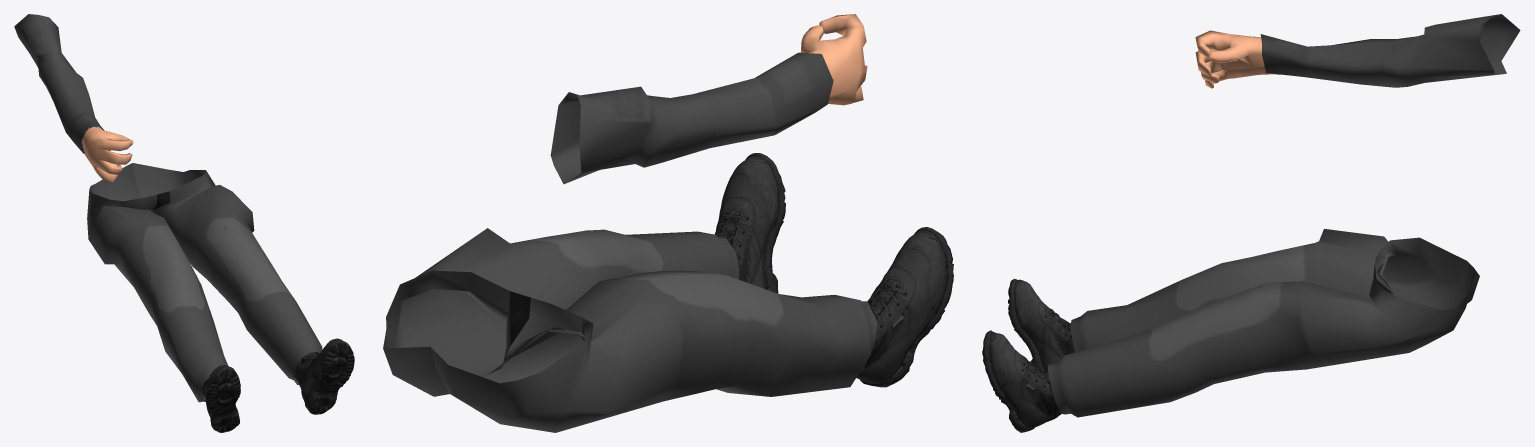
The model's file is Hel_Player.fbx.
3 views of the same model, side by side, from view 1: azimuth 30°, elevation 25°; view 2: azimuth 150°, elevation 25°; view 3: azimuth 270°, elevation 25° (orthographic). The views are drawn at different scales.
Visible parts, largest first — view 1: Hel_LegL, Hel_LegR, Hel_Hand; view 2: Hel_LegR, Hel_LegL, Hel_Hand; view 3: Hel_LegL, Hel_LegR, Hel_Hand.
Part boxes in pixels (x1,y1,x2,y2): Hel_LegL: [132, 163, 354, 414]; Hel_LegR: [87, 163, 240, 432]; Hel_Hand: [14, 14, 133, 182]; Hel_LegR: [431, 227, 953, 432]; Hel_LegL: [383, 153, 785, 396]; Hel_Hand: [550, 14, 867, 184]; Hel_LegL: [982, 266, 1474, 432]; Hel_LegR: [1008, 229, 1479, 371]; Hel_Hand: [1195, 14, 1520, 88].
Size of the model in its own units: 0.6257 by 0.8853 by 1.18.
1 material, 1 textured.
